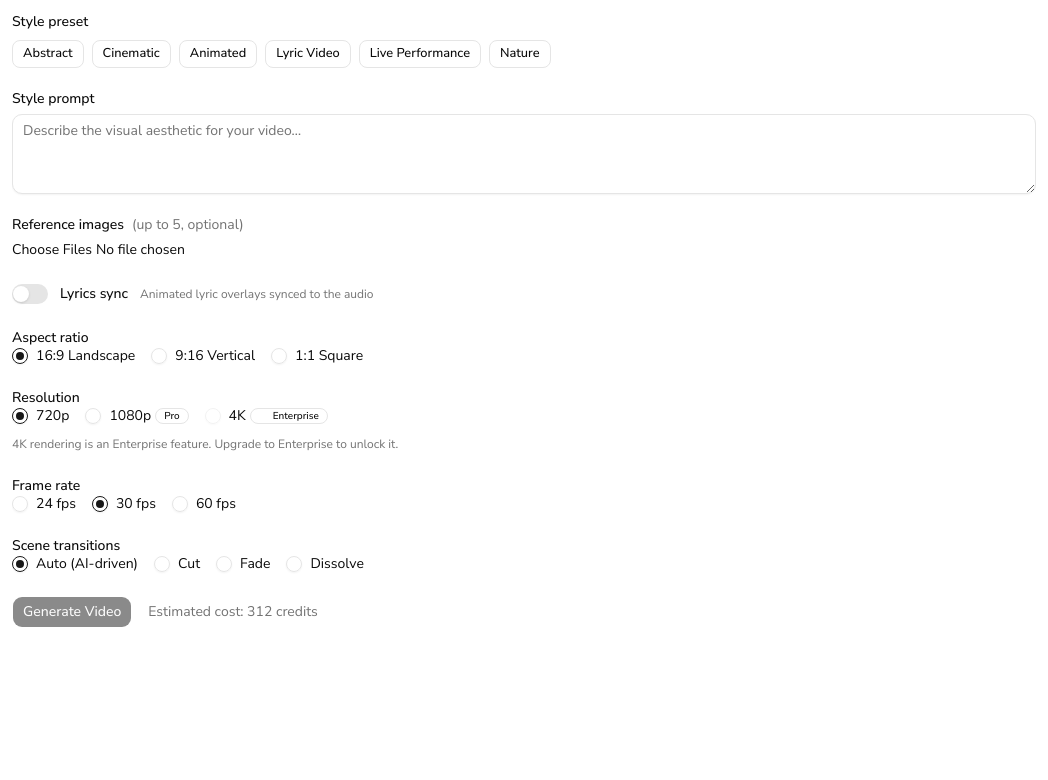
it: VideoForm › shows the credit estimate and updates it with resolution and duration
The width and height of the screenshot is (1048, 780).
Expected: the text "Estimated cost: 312 credits" is shown, [148, 602, 318, 622]
Click the radio button named "1080p" next to "1080p".
click(93, 416)  # box [85, 408, 101, 424]
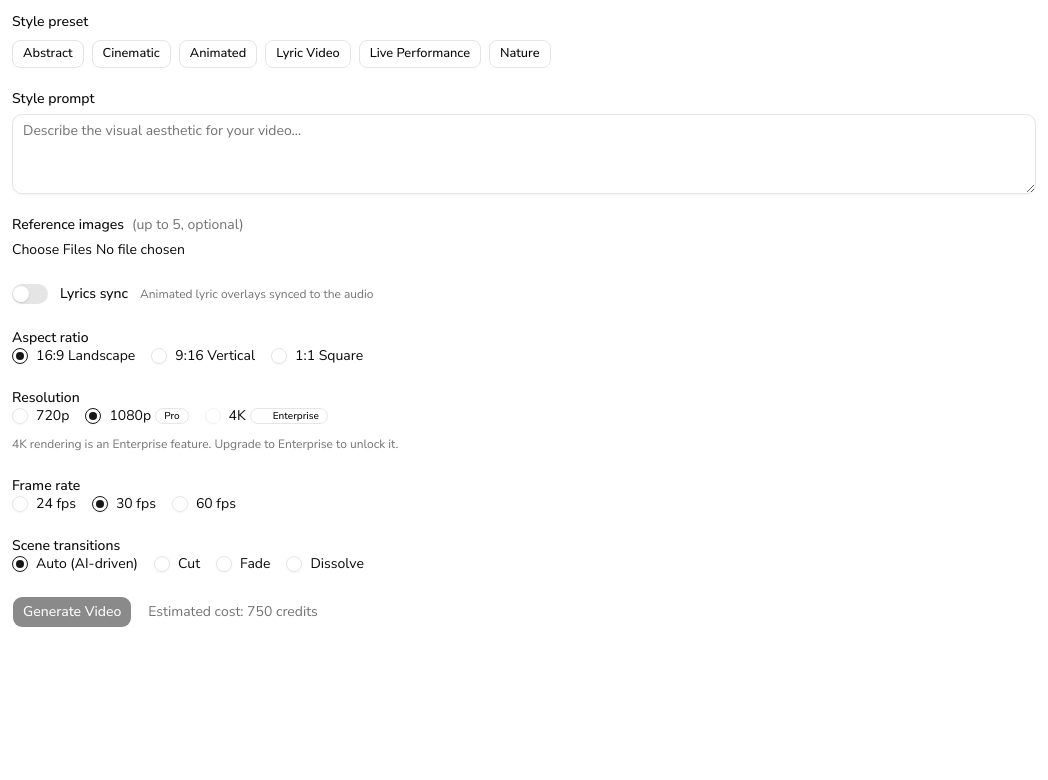
Expected: the text "Estimated cost: 750 credits" is shown, [148, 602, 318, 622]
